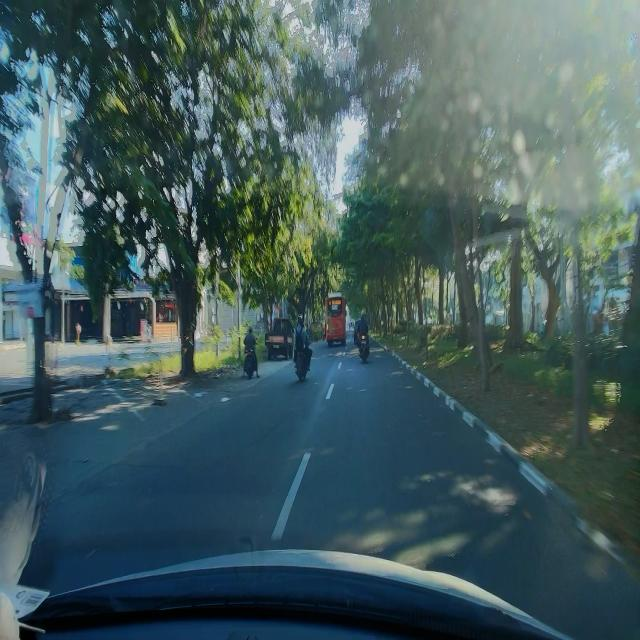bus: (325, 291, 347, 348)
truck: (264, 316, 294, 360)
